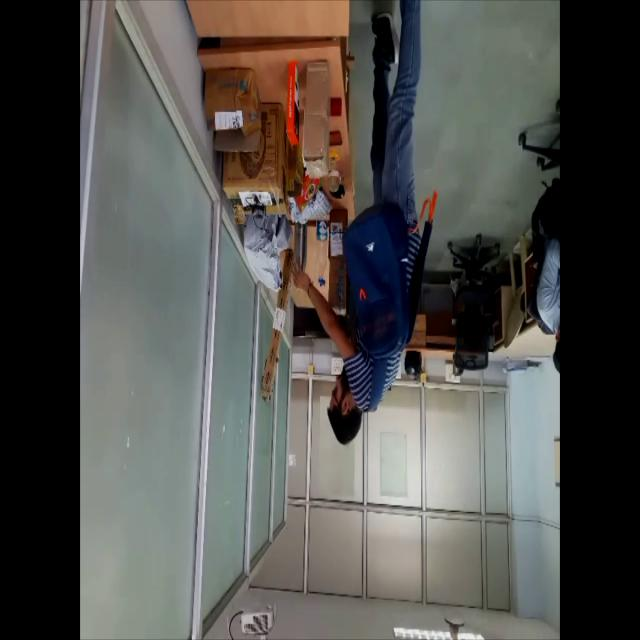normal: (300, 1, 437, 494)
